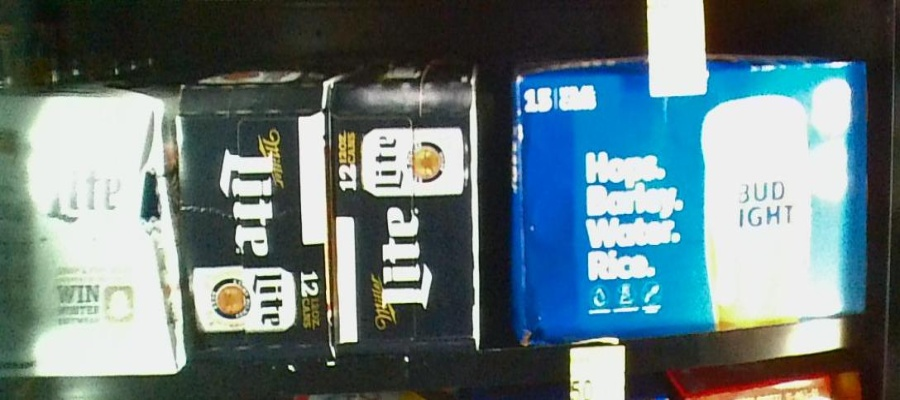bottle: (515, 70, 867, 320), (1, 97, 185, 376), (329, 71, 484, 352), (181, 75, 333, 361)
